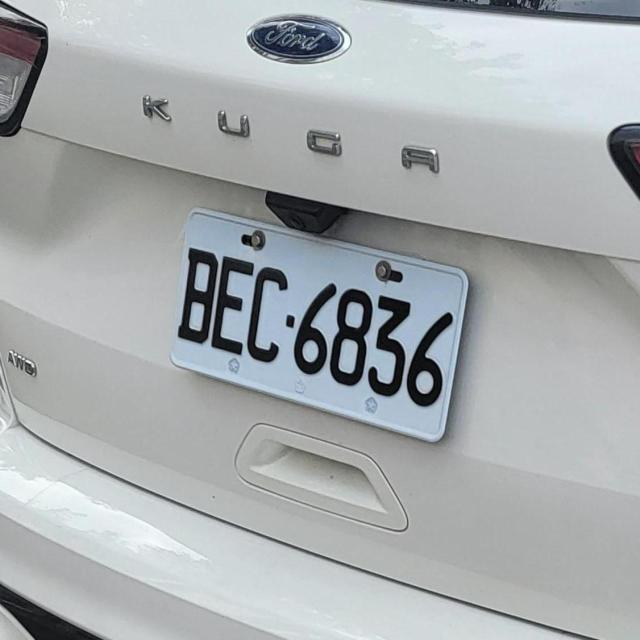W: (157, 198, 478, 444)
